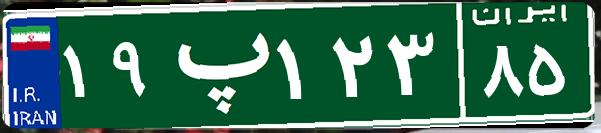1: (273, 28, 330, 110), (57, 26, 110, 107)
2: (330, 28, 385, 110)
3: (385, 28, 445, 110)
5: (525, 38, 570, 115)
8: (475, 38, 525, 113)
9: (110, 28, 158, 105)
پ: (158, 15, 273, 115)
